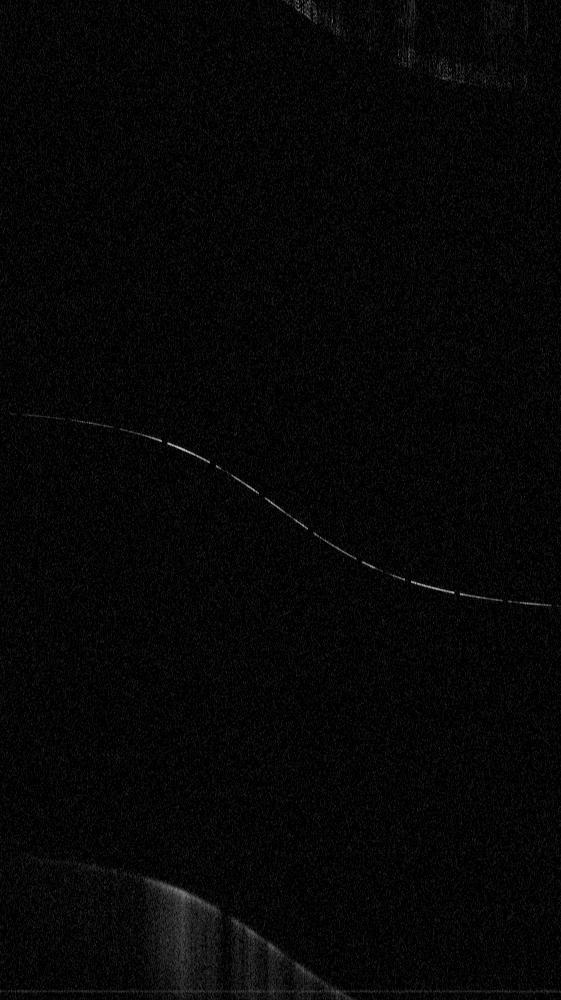signal: (0, 0, 560, 999)
